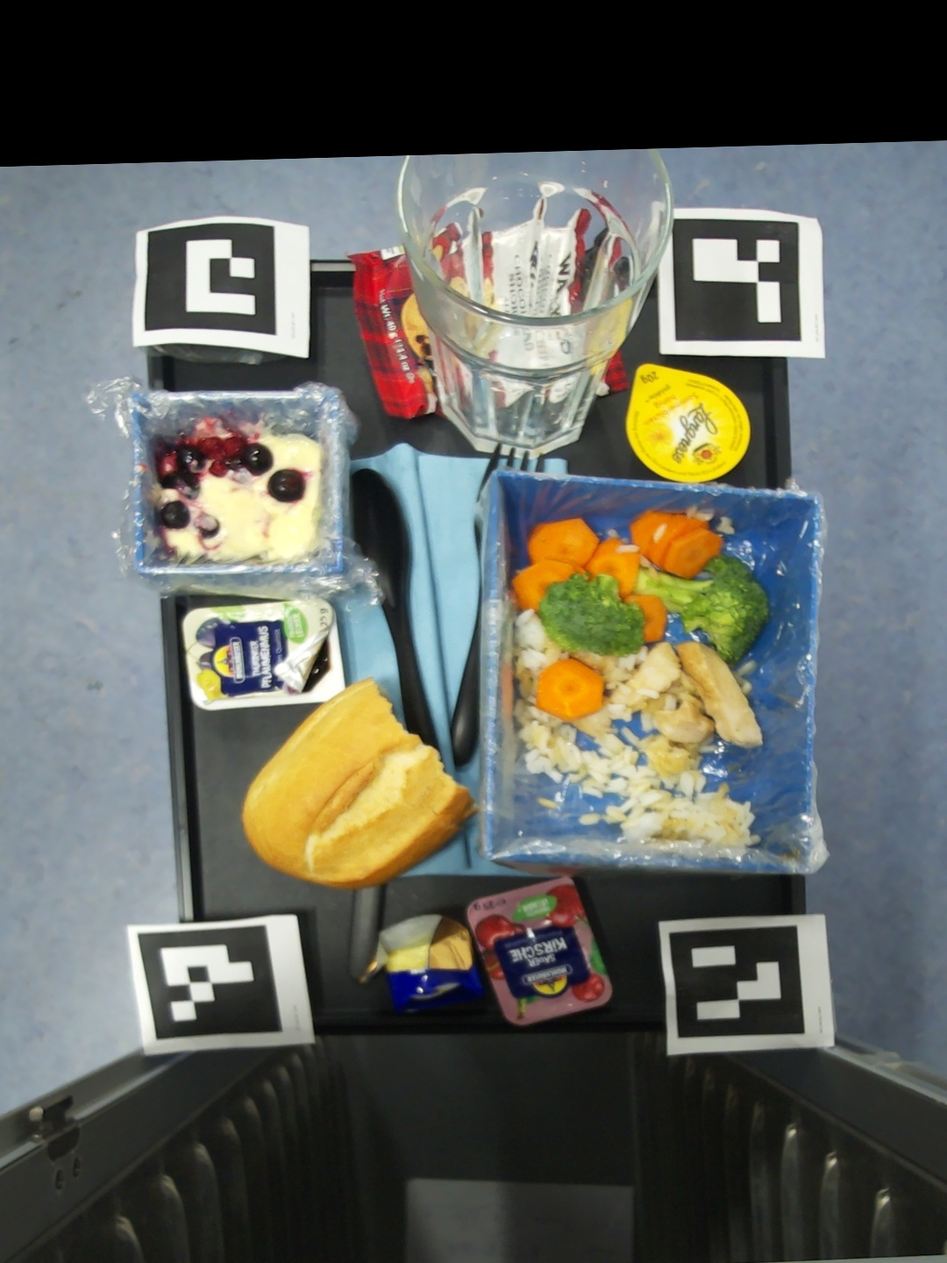bread_roll: (244, 678, 483, 890)
broccoli: (634, 554, 769, 663), (536, 572, 646, 657)
butter: (356, 912, 482, 1010)
carrots: (513, 511, 723, 642), (536, 658, 603, 722)
cherry_jam: (467, 876, 613, 1025)
chicken: (633, 642, 763, 749)
cookie: (347, 243, 450, 422), (596, 349, 631, 399)
honey: (624, 363, 749, 464)
plum_jam: (182, 597, 346, 711)
rice: (514, 609, 762, 847), (732, 659, 756, 695), (606, 529, 640, 552), (686, 505, 715, 522), (640, 556, 659, 578), (716, 517, 735, 534), (653, 524, 667, 542), (539, 798, 557, 808), (697, 572, 714, 579)
vanilla_pudding_with_fruits: (156, 416, 324, 560)
water_bottle: (396, 149, 672, 461)
